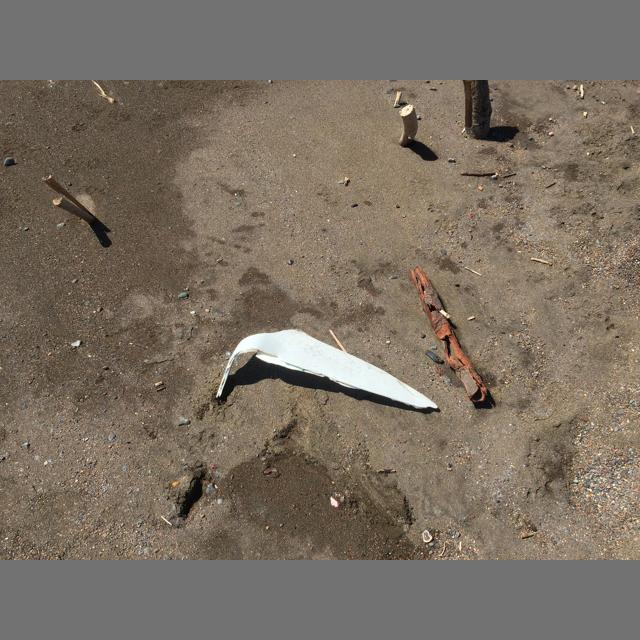litter: (216, 330, 438, 408)
